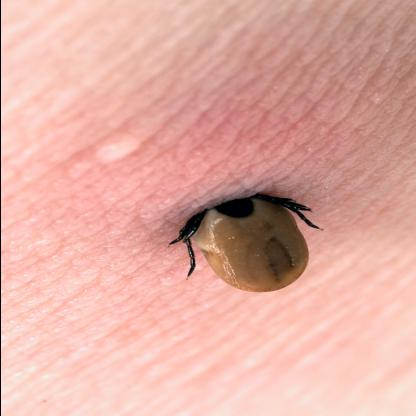Tick: (134, 157, 326, 239)
